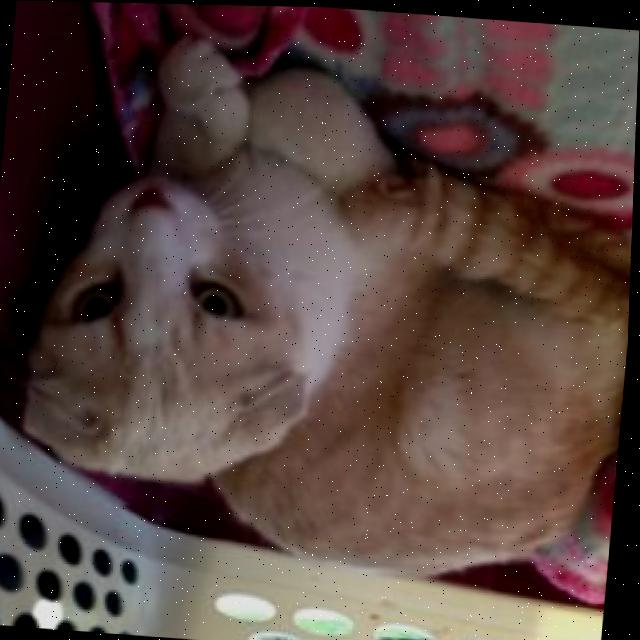Scottish Fold: (6, 17, 640, 599)
